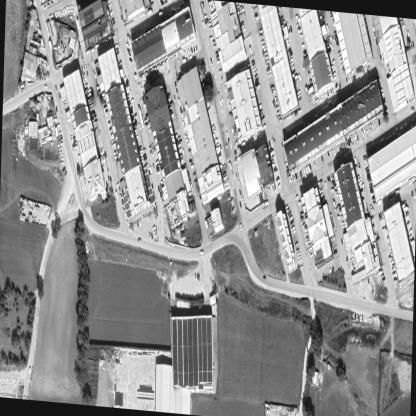solar-pv-panel: (163, 128, 178, 172), (157, 132, 171, 177), (177, 319, 183, 386), (193, 318, 198, 386), (183, 319, 188, 386), (188, 319, 193, 386), (172, 319, 177, 385), (202, 318, 207, 382), (207, 318, 212, 382), (198, 318, 202, 383), (199, 384, 203, 389)
